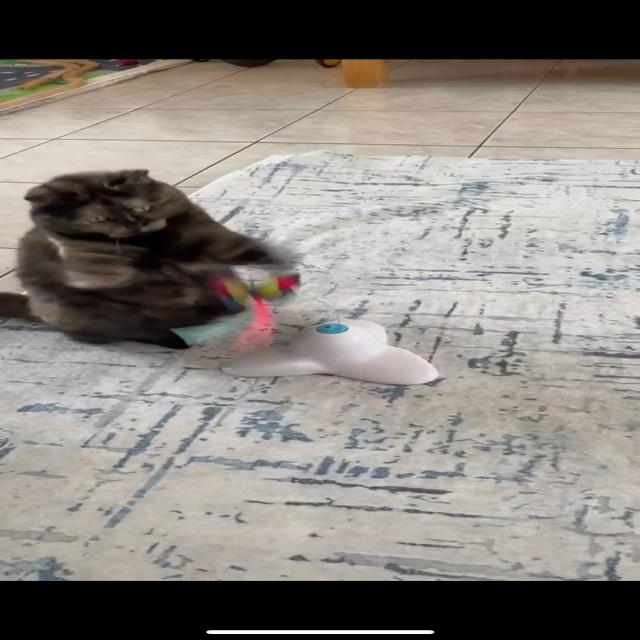authorized: (1, 168, 280, 350)
